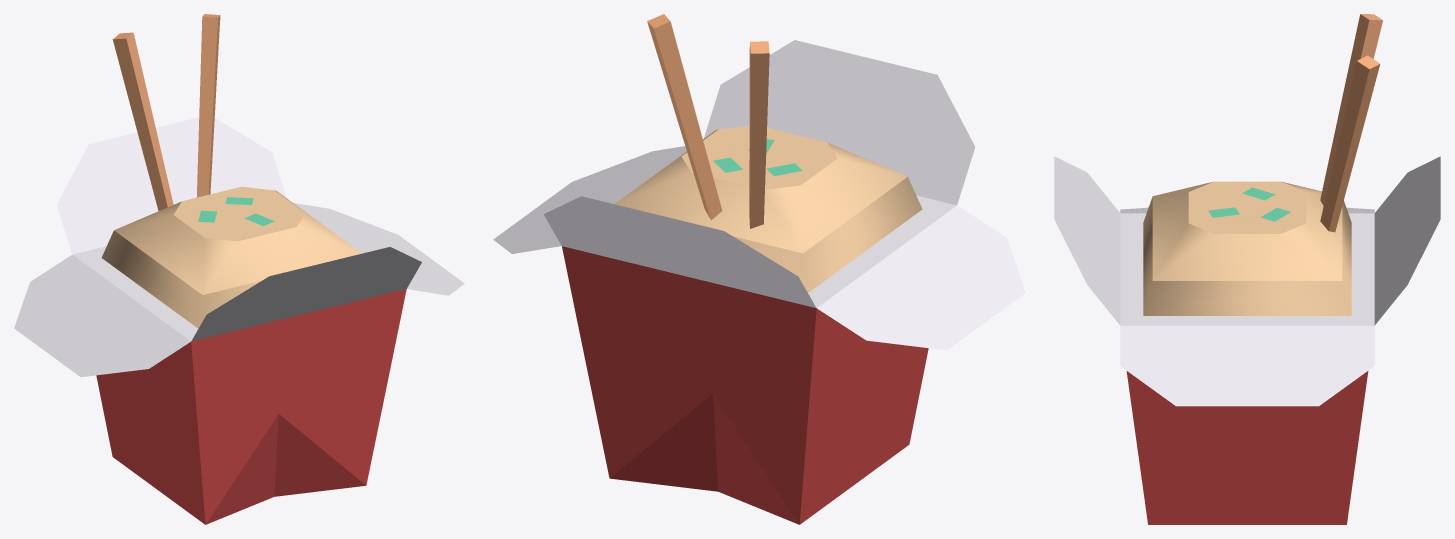
The model's file is chinese-food.glb.
3 renders of one model, left to right at view 1: azimuth 30°, elevation 25°; view 2: azimuth 150°, elevation 25°; view 3: azimuth 270°, elevation 25°, orthographic. The views are drawn at different scales.
Visible parts, largest first — view 1: chinese; view 2: chinese; view 3: chinese.
Boxes of the visible parts, <box> form: chinese: <box>14,14,464,524</box>; chinese: <box>493,14,1025,524</box>; chinese: <box>1054,14,1440,524</box>.
Size of the model in its own units: 0.5575 by 0.5671 by 0.4539.
1 material, 1 textured.
